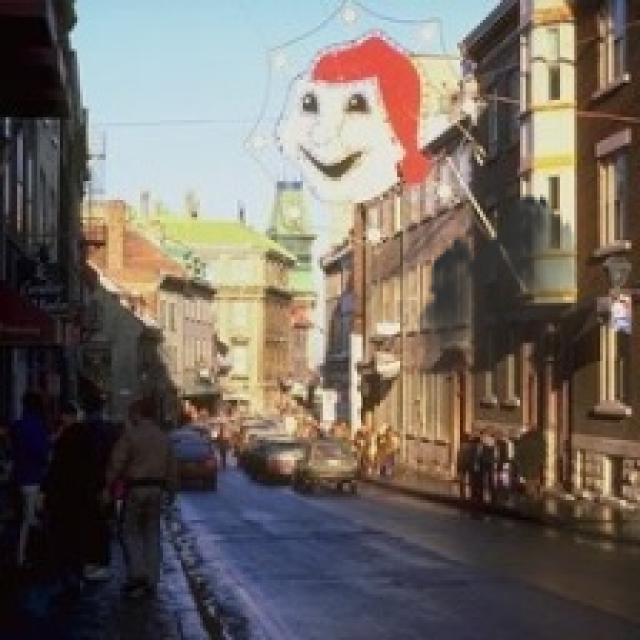Smoke: (411, 183, 620, 446)
